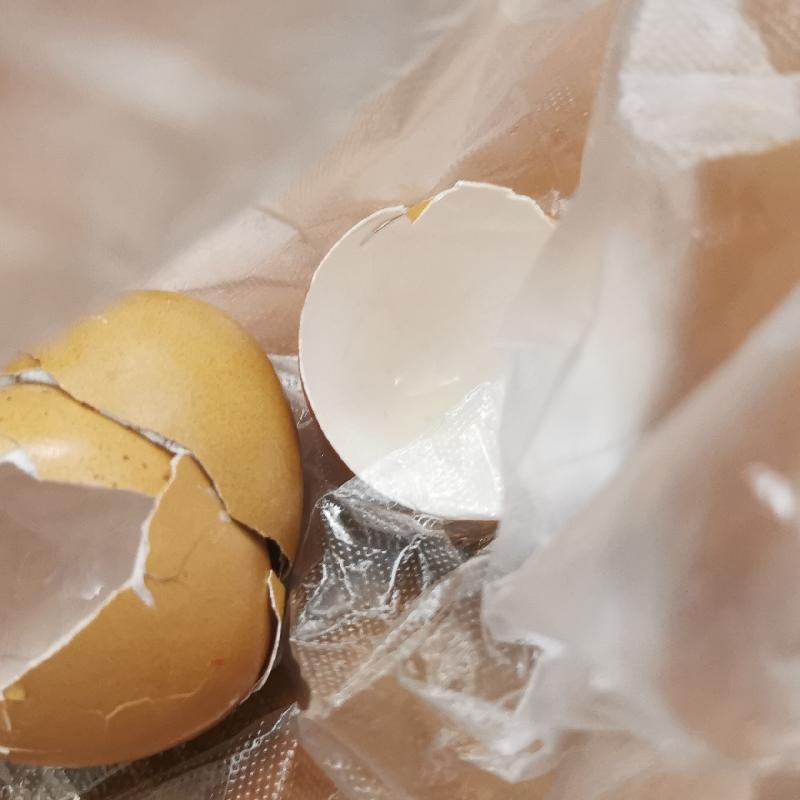eggshell: (0, 279, 311, 768)
